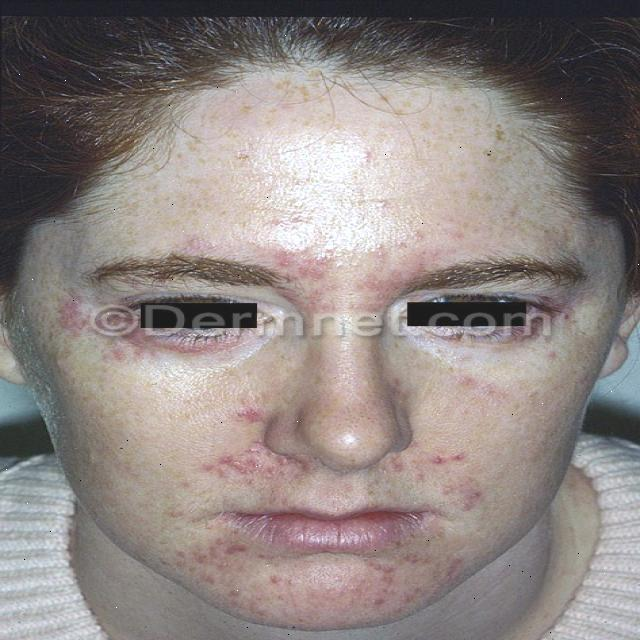images: (0, 11, 639, 639)
